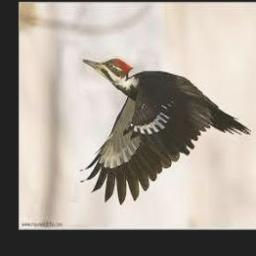Woodpecker: (79, 58, 251, 205)
